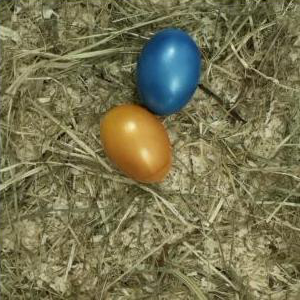egg: (100, 102, 174, 186), (137, 30, 203, 115)
